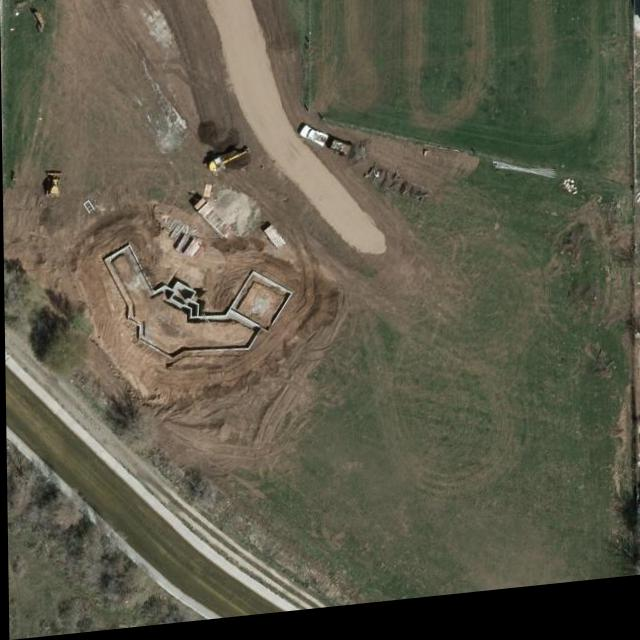vehicle: (298, 130, 330, 155)
